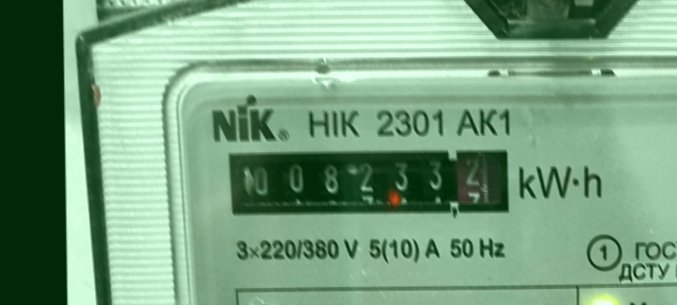0: (250, 164, 270, 196), (286, 162, 305, 194)
2: (355, 161, 375, 194), (463, 156, 481, 187)
3: (391, 160, 409, 192), (427, 158, 444, 190)
8: (321, 162, 339, 194)
screen: (218, 138, 520, 224)
